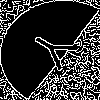Y: (24, 25, 90, 78)
